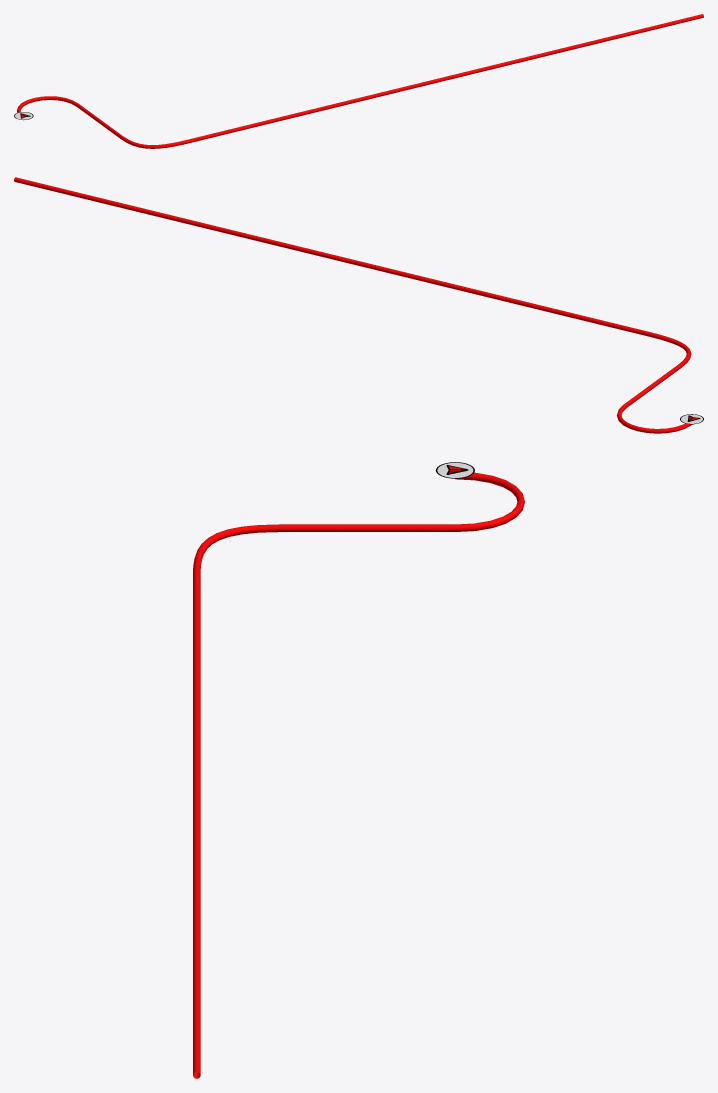
The model's file is route_014b053b-4d98-4174-a2e9-a4a1f4eb9c08_de_target.glb.
The picture shows the model from 3 angles, top to bottom: view 1: azimuth 30°, elevation 25°; view 2: azimuth 150°, elevation 25°; view 3: azimuth 270°, elevation 25°; orthographic projection. The views are drawn at different scales.
Parts seen in each view (by area): view 1: Station 10.001; view 2: Station 10.001; view 3: Station 10.001.
Boxes of the visible parts, box(x1,y1,x2,y2) form: Station 10.001: box(17, 14, 703, 148); Station 10.001: box(14, 177, 692, 433); Station 10.001: box(193, 472, 524, 1078).
Size of the model in its own units: 14.99 by 0.1086 by 3.46.
